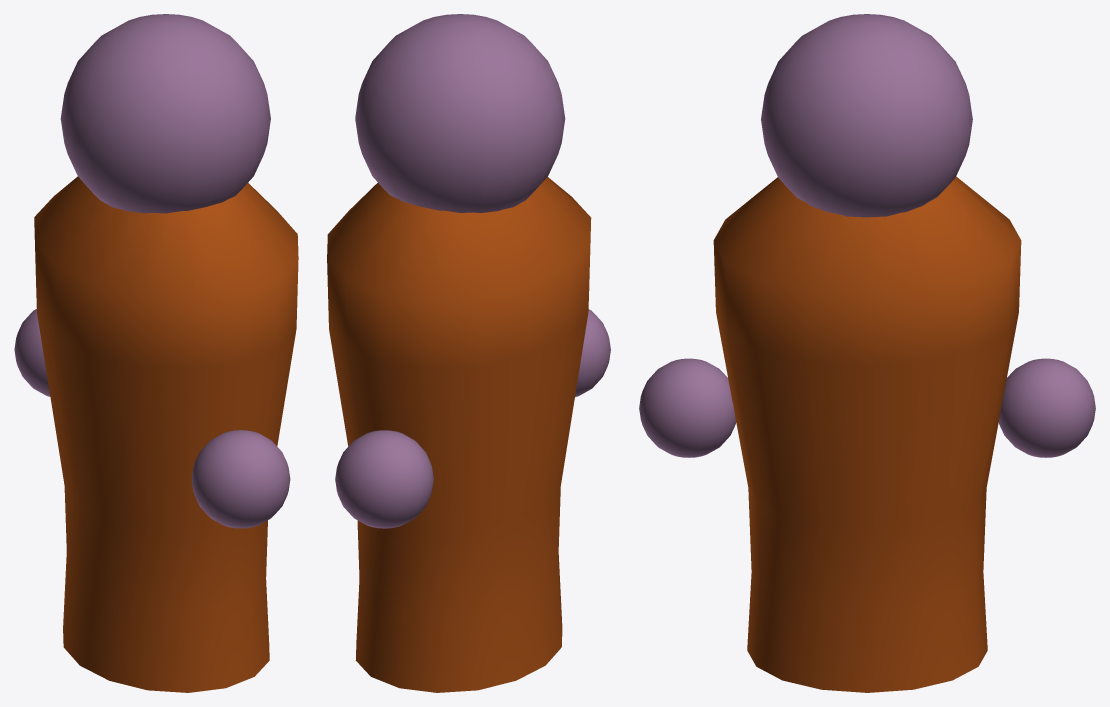
Rendered from Character_Placeholder.fbx.
3 views of the same model, side by side, from view 1: azimuth 30°, elevation 25°; view 2: azimuth 150°, elevation 25°; view 3: azimuth 270°, elevation 25° (orthographic).
Parts seen in each view (by area): view 1: Body, Head, Left_Hand, Right_Hand; view 2: Body, Head, Right_Hand, Left_Hand; view 3: Body, Head, Left_Hand, Right_Hand.
Boxes of the visible parts, bbox=[...] form: Body: bbox=[34, 176, 298, 692]; Head: bbox=[60, 14, 270, 213]; Left_Hand: bbox=[191, 430, 290, 528]; Right_Hand: bbox=[14, 309, 50, 396]; Body: bbox=[327, 177, 591, 692]; Head: bbox=[355, 14, 565, 213]; Right_Hand: bbox=[335, 430, 433, 528]; Left_Hand: bbox=[575, 309, 610, 396]; Body: bbox=[713, 176, 1021, 692]; Head: bbox=[761, 14, 972, 217]; Left_Hand: bbox=[639, 358, 736, 457]; Right_Hand: bbox=[998, 358, 1095, 457].
Bounding box in the file's own units: 31.23 × 83.83 × 55.39.
